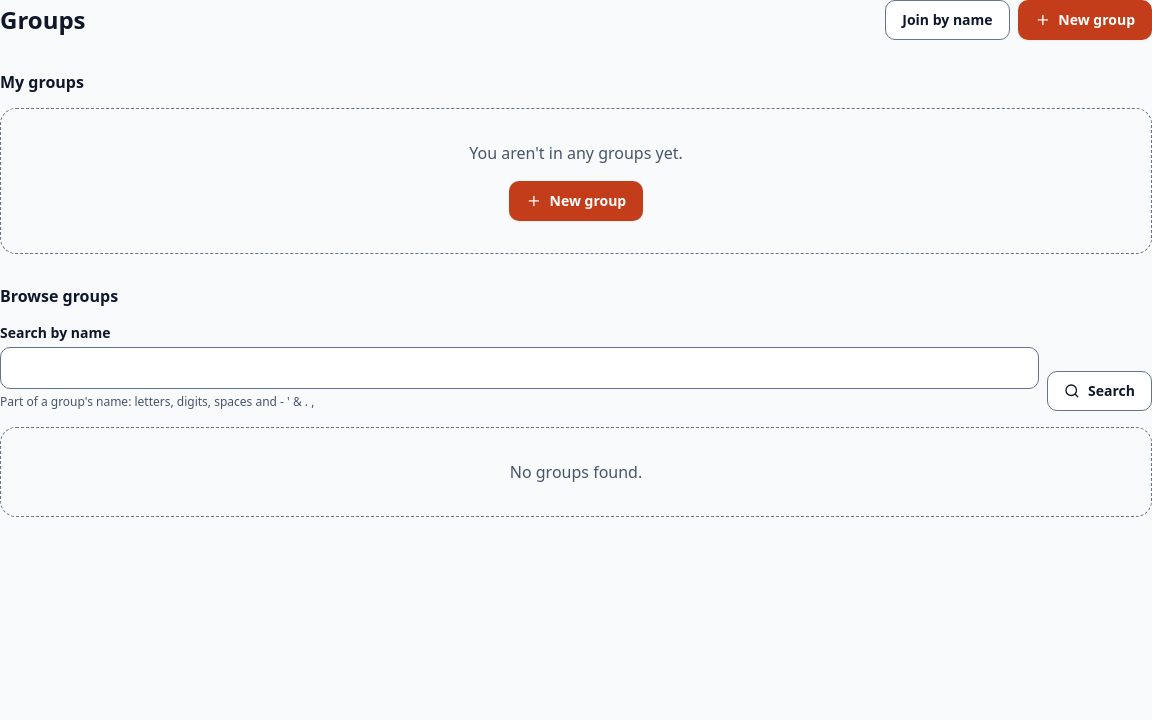
Test: creating a group › opens in a dialog with the name field focused
This screenshot has width=1152, height=720.
Expected: the text "You aren't in any groups yet." is shown, x1=469 y1=141 x2=683 y2=165
Expected: the text "No groups found." is shown, x1=510 y1=460 x2=642 y2=484
Step 1. Click the 1st button "New group" → (1085, 20), box x1=1018 y1=0 x2=1151 y2=40
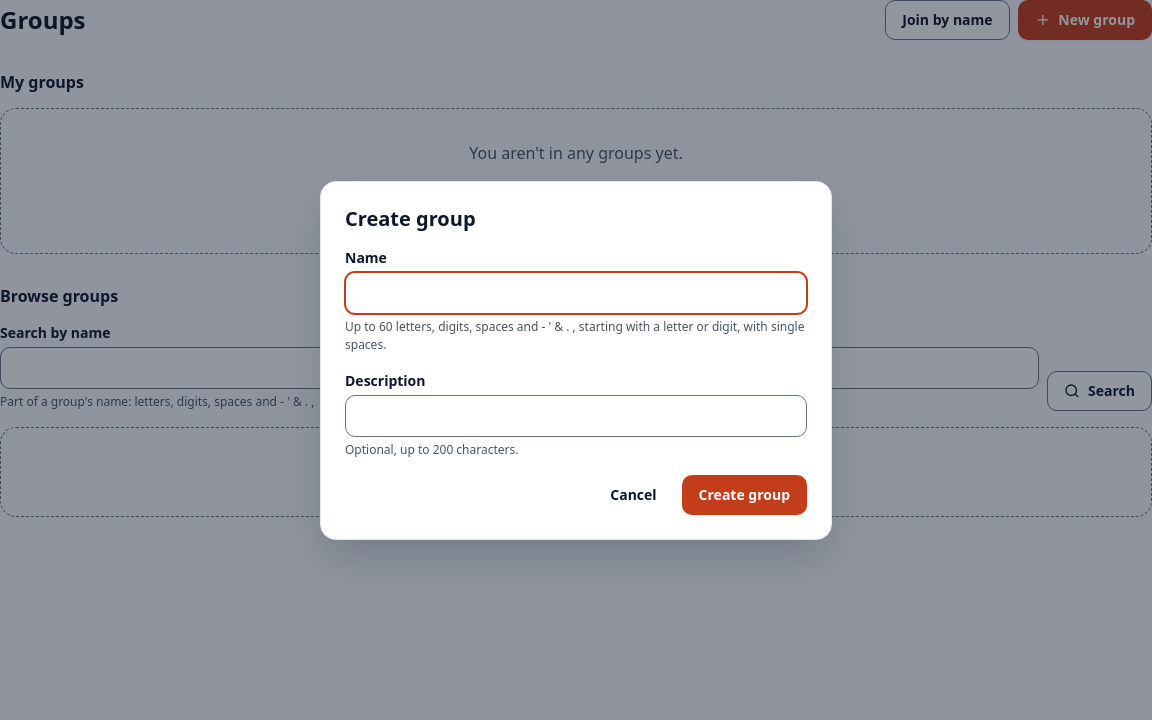
Expected: the dialog "Create group" is shown, x1=320 y1=180 x2=832 y2=540
